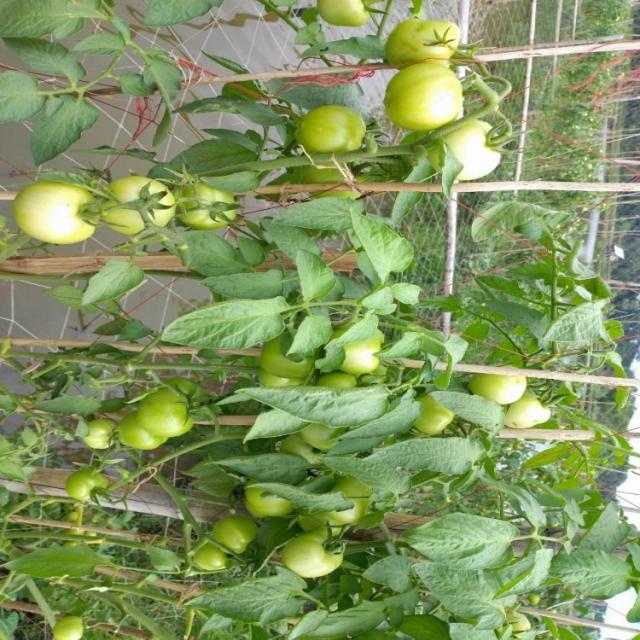tomato: (387, 5, 477, 80), (380, 58, 466, 132), (15, 179, 106, 244), (283, 101, 381, 160), (102, 171, 183, 236), (447, 109, 519, 180), (129, 381, 206, 443), (284, 529, 361, 585), (179, 174, 246, 236), (214, 512, 268, 568), (315, 1, 392, 40), (62, 464, 115, 511), (256, 340, 309, 387), (469, 359, 526, 402), (414, 394, 465, 441), (506, 393, 558, 439), (44, 599, 102, 640), (180, 544, 235, 586), (281, 428, 333, 469), (114, 405, 162, 449), (238, 485, 289, 523), (344, 335, 382, 381), (325, 502, 369, 529), (86, 420, 116, 449)
